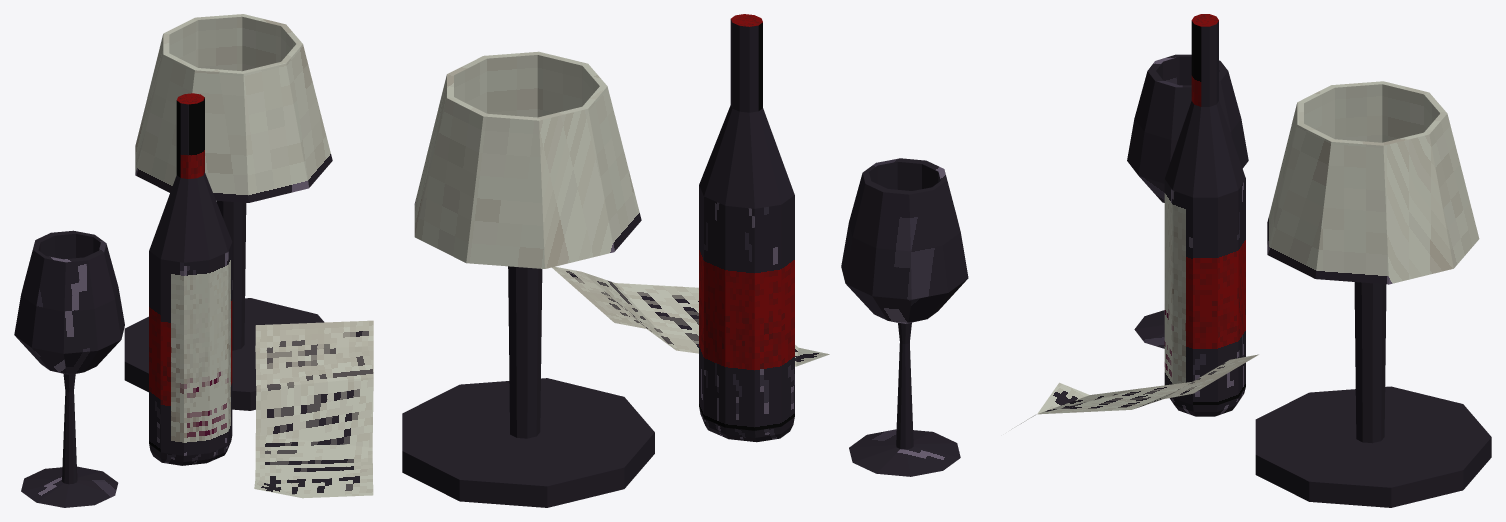
The model's file is receipt.glb.
The picture shows the model from 3 angles, left to right: view 1: azimuth 30°, elevation 25°; view 2: azimuth 150°, elevation 25°; view 3: azimuth 270°, elevation 25°; orthographic projection. The views are drawn at different scales.
Visible parts, largest first — view 1: Receipt; view 2: Receipt; view 3: Receipt.
Boxes of the visible parts, x1,y1,x2,y2 form: Receipt: (14, 14, 373, 507); Receipt: (402, 14, 968, 507); Receipt: (1011, 14, 1491, 507).
Bounding box in the file's own units: 3.97 × 3.44 × 4.06.
1 material, 1 textured.
